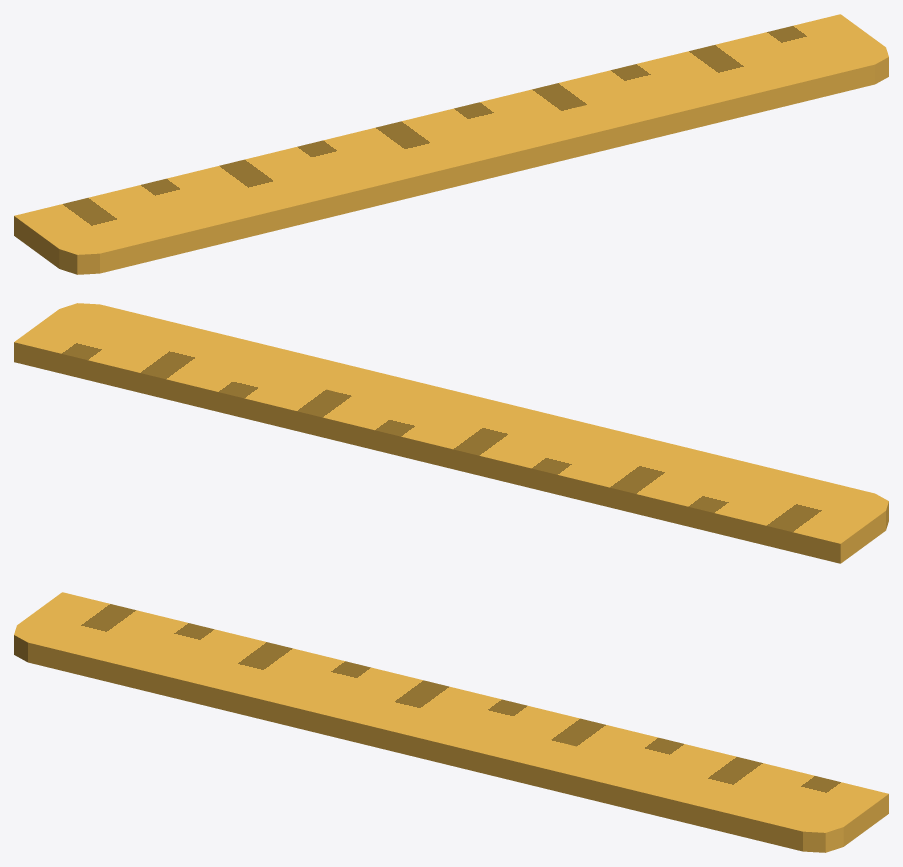
The model's file is ruler.glb.
3 renders of one model, top to bottom at view 1: azimuth 30°, elevation 25°; view 2: azimuth 150°, elevation 25°; view 3: azimuth 330°, elevation 25°, orthographic.
Visible parts, largest first — view 1: Plane.002; view 2: Plane.002; view 3: Plane.002.
Boxes of the visible parts, left/top/right/bottom form: Plane.002: left=14, top=14, right=888, bottom=274; Plane.002: left=14, top=303, right=888, bottom=563; Plane.002: left=14, top=592, right=888, bottom=852.
Size of the model in its own units: 4.34 by 0.1 by 0.5478.
Materials: 1 (1 with a texture image).
